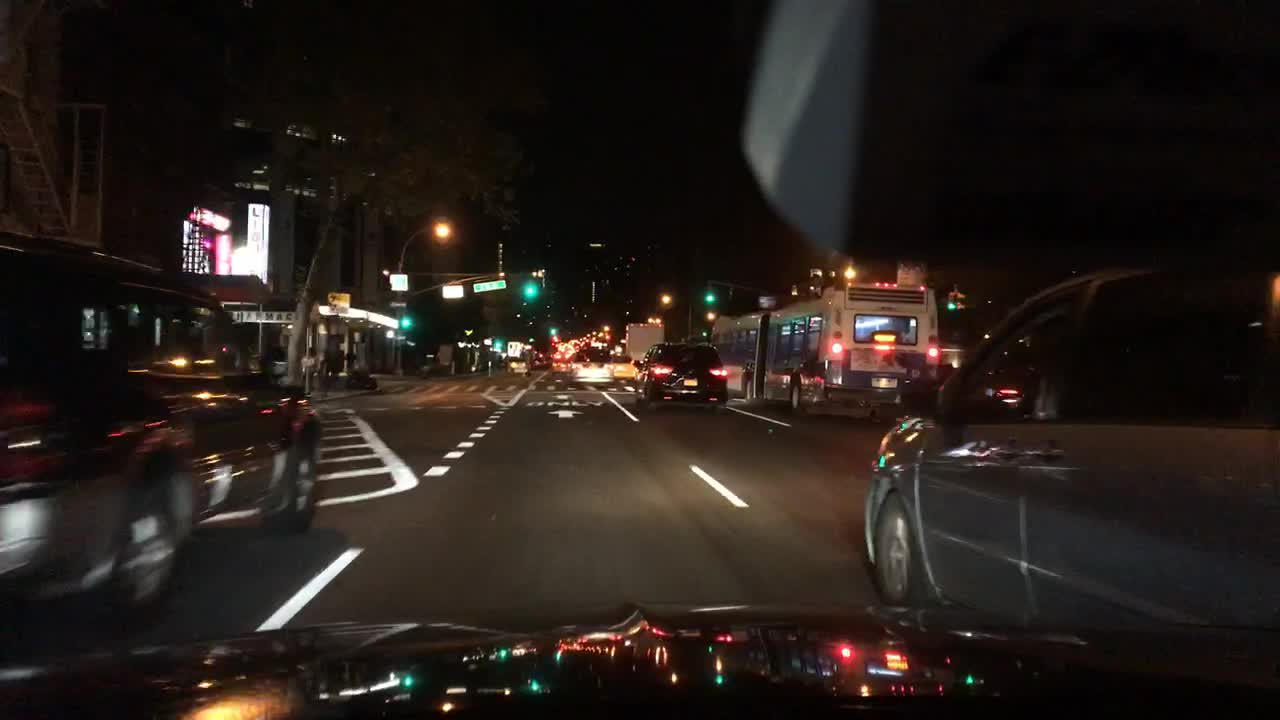bus: (708, 277, 948, 422)
car: (858, 251, 1279, 702), (0, 230, 330, 622), (937, 357, 1058, 420), (633, 338, 733, 409), (567, 344, 619, 388), (611, 352, 643, 388), (527, 352, 548, 369), (549, 356, 570, 372), (509, 357, 527, 372)
traffic light: (696, 288, 719, 306), (522, 275, 538, 299), (490, 331, 504, 351), (398, 314, 414, 330), (545, 320, 559, 336), (947, 298, 961, 314)
traffic sign: (470, 278, 507, 294), (327, 291, 351, 314), (385, 268, 407, 293)
